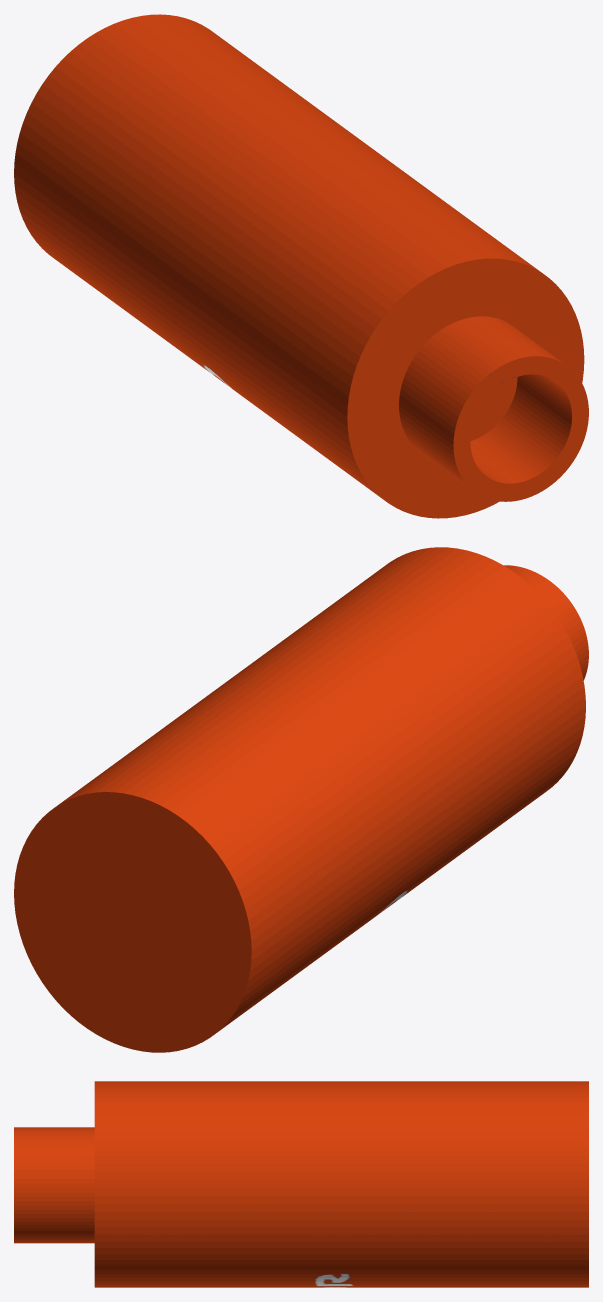
Rendered from Gas.obj.
3 renders of one model, top to bottom at view 1: azimuth 30°, elevation 25°; view 2: azimuth 150°, elevation 25°; view 3: azimuth 270°, elevation 25°, orthographic. The views are drawn at different scales.
Visible parts, largest first — view 1: Object.2, Object.1; view 2: Object.2, Object.1; view 3: Object.2, Object.1.
Boxes of the visible parts, x1=… form: Object.2: x1=14, y1=14, x2=584, y2=518; Object.1: x1=399, y1=316, x2=588, y2=501; Object.2: x1=14, y1=547, x2=585, y2=1052; Object.1: x1=504, y1=565, x2=588, y2=680; Object.2: x1=94, y1=1081, x2=588, y2=1287; Object.1: x1=14, y1=1127, x2=94, y2=1243.
Size of the model in its own units: 19.49 by 19.93 by 55.27.
Materials: 2 (2 with a texture image).
